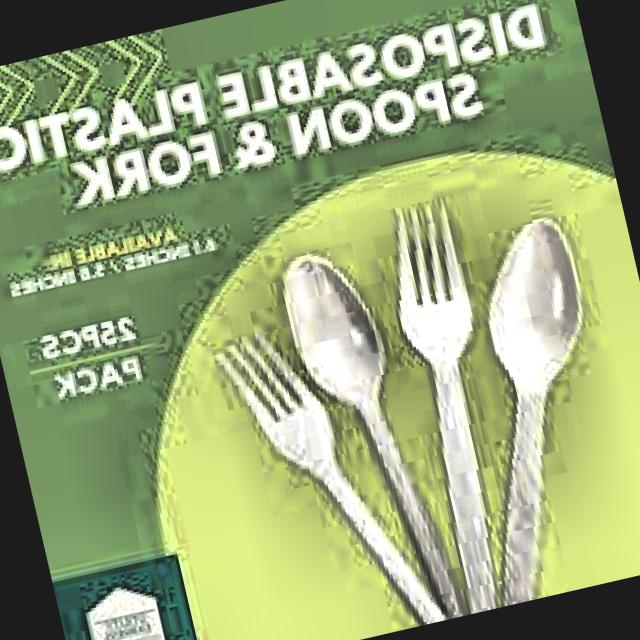plastic utensil: (218, 333, 445, 625), (284, 256, 463, 615), (397, 200, 498, 613), (489, 220, 580, 606)
